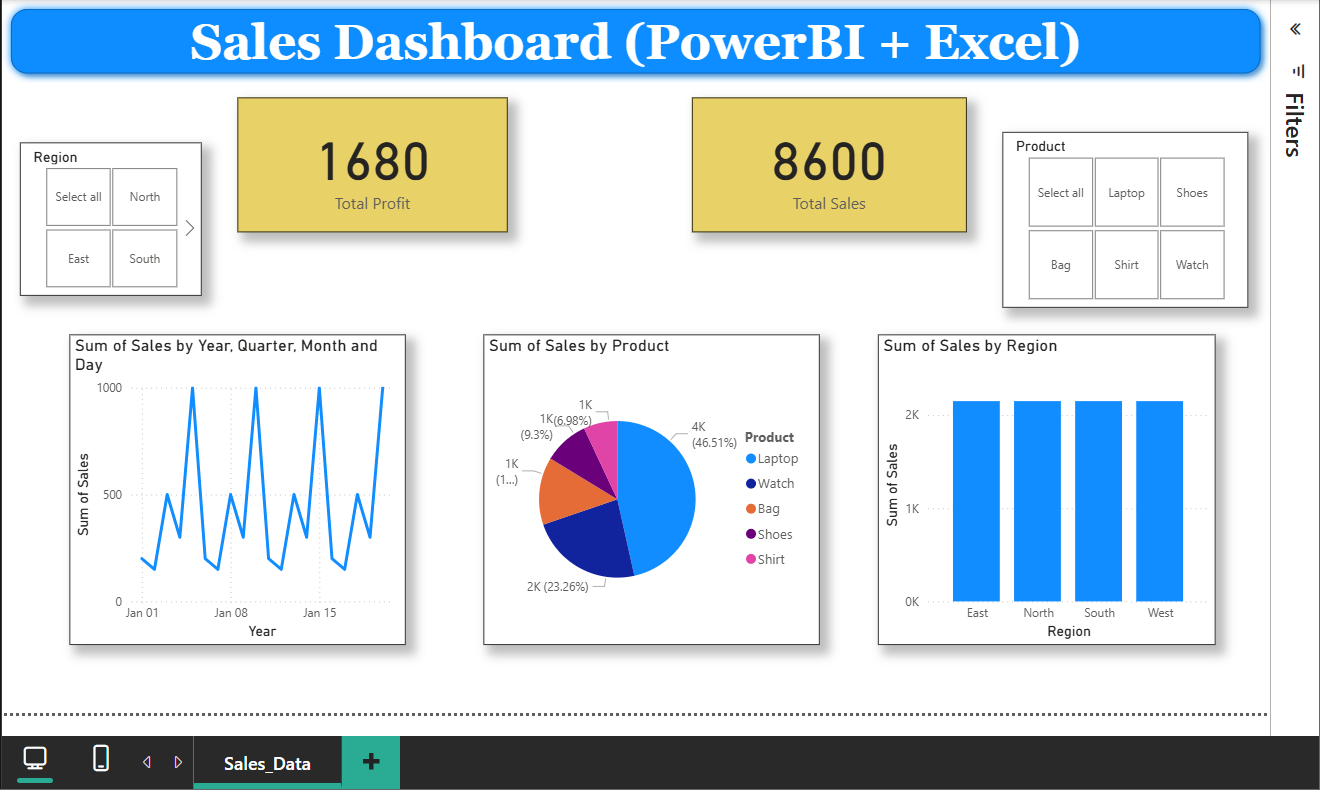

What the dashboard file says about the page in this screenshot:
{"tool":"powerbi","page":{"name":"Sales_Data","canvas":[1280,720],"ordinal":0},"visuals":[{"type":"columnChart","fields":{"Y":["Sum(Sheet1.Sales)"],"Category":["Sheet1.Region"]},"box":[884.3,337.7,340.7,313.4],"z":0},{"type":"pieChart","fields":{"Y":["Sum(Sheet1.Sales)"],"Category":["Sheet1.Product"]},"box":[486.1,337.7,339.2,313.4],"z":1000},{"type":"lineChart","fields":{"Y":["Sum(Sales_Data.Sales)"],"Category":["Sales_Data.Date.Variation.Date Hierarchy.Year","Sales_Data.Date.Variation.Date Hierarchy.Quarter","Sales_Data.Date.Variation.Date Hierarchy.Month","Sales_Data.Date.Variation.Date Hierarchy.Day"]},"box":[68.1,337.7,339.2,313.4],"z":2000},{"type":"slicer","fields":{"Values":["Sales_Data.Region"]},"box":[18.2,143.8,183.2,154.4],"z":3000},{"type":"card","fields":{"Values":["Sales_Data.Total Sales"]},"box":[696.5,98.4,277.1,136.3],"z":5000},{"type":"card","fields":{"Values":["Sales_Data.Total Profit"]},"box":[237.7,98.4,272.6,136.3],"z":6000},{"type":"shape","box":[0,0,1279.5,83.3],"z":7000},{"type":"slicer","fields":{"Values":["Sales_Data.Product"]},"box":[1010,133.3,248.3,177.2],"z":7001}]}

Visuals, with their boxes on the page's 1280x720 design canvas (x1, y1, x2, y2). These are canvas units, not pixel positions in the 1320x790 screenshot, which may show the page scaled, cropped or inside an application window:
columnChart - Sum(Sheet1.Sales) x Sheet1.Region: box=[884, 338, 1225, 651]
pieChart - Sum(Sheet1.Sales) x Sheet1.Product: box=[486, 338, 825, 651]
lineChart - Sum(Sales_Data.Sales) x Sales_Data.Date.Variation.Date Hierarchy.Year: box=[68, 338, 407, 651]
slicer - Sales_Data.Region: box=[18, 144, 201, 298]
card - Sales_Data.Total Sales: box=[696, 98, 974, 235]
card - Sales_Data.Total Profit: box=[238, 98, 510, 235]
shape: box=[0, 0, 1280, 83]
slicer - Sales_Data.Product: box=[1010, 133, 1258, 310]
